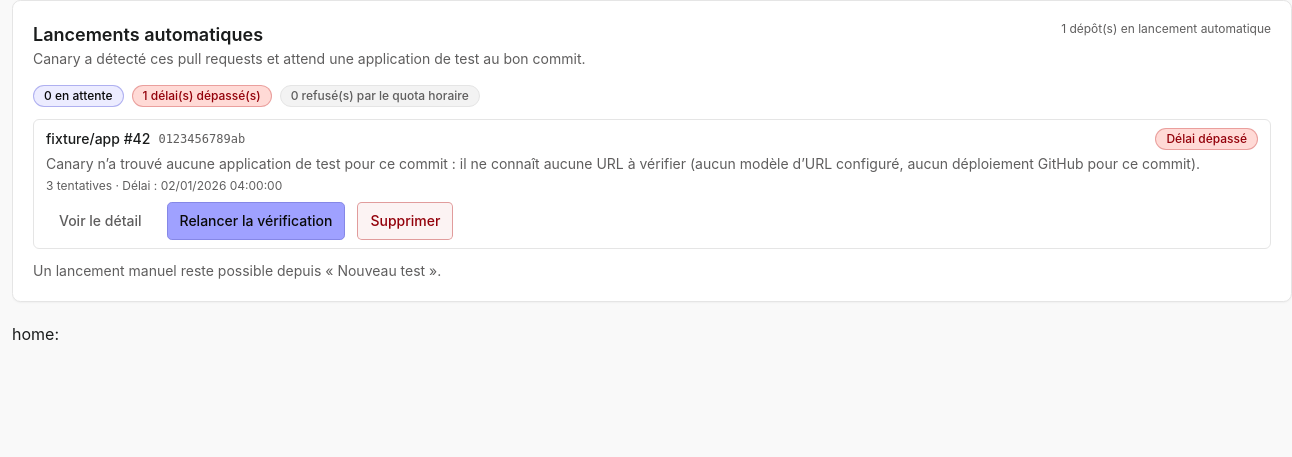
Scenario: AutomaticRuns › reports a refused delete and shows the state the list really has
Click the button "Supprimer" at x=405, y=221, box [357,202,453,240]
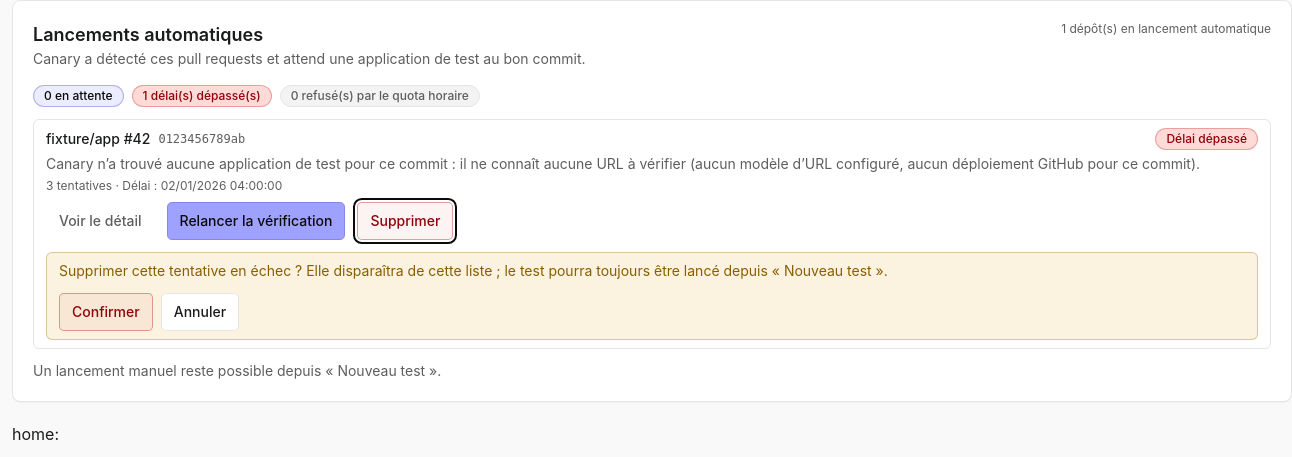
Click the button "Confirmer" at x=106, y=312, box [59,293,153,331]
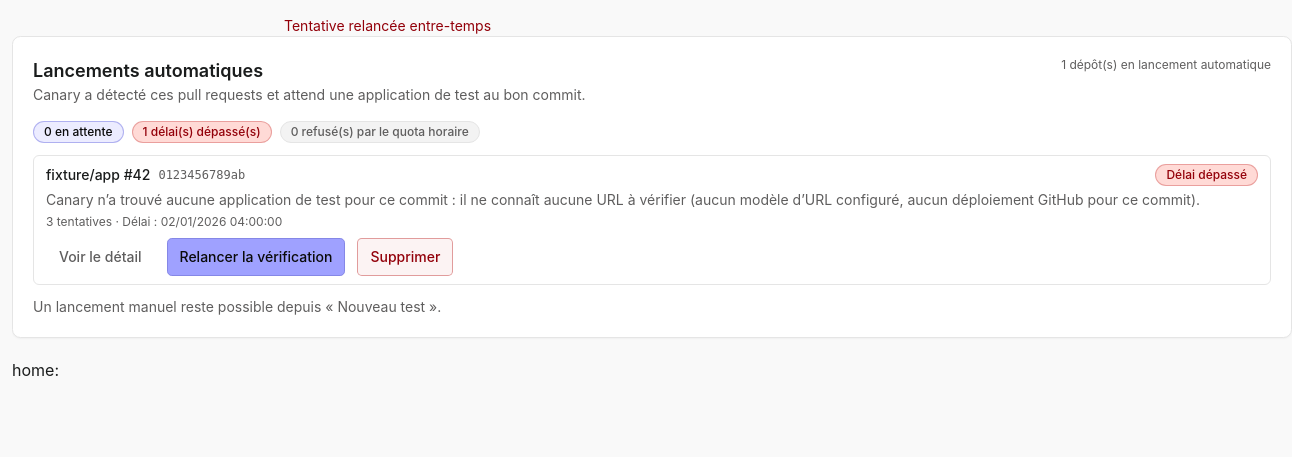
Expected: the text "Délai dépassé" is shown, [1155,164,1258,186]
Result: the message reads "Tentative relancée entre-temps" at [284,17,491,34]
